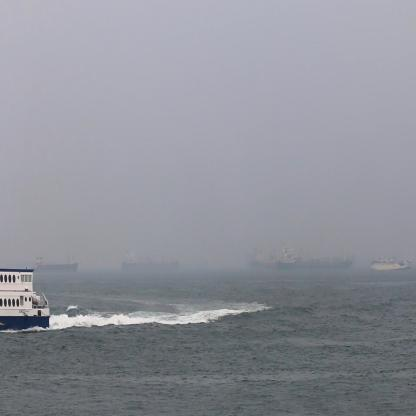Container Ship: (277, 245, 356, 269), (121, 250, 181, 270), (34, 256, 79, 272), (372, 254, 412, 271), (247, 246, 267, 270), (267, 254, 276, 270)
